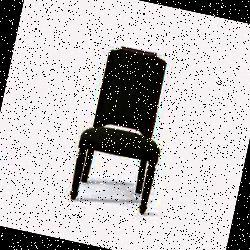Silla: (65, 42, 179, 218)
